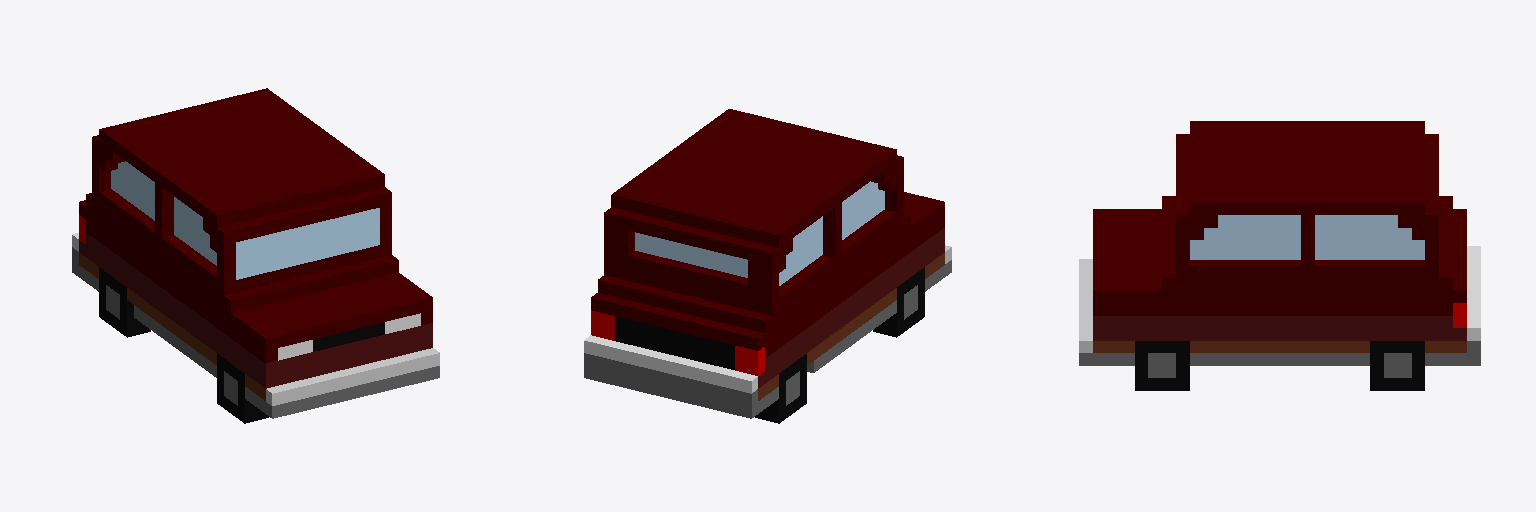
3 renders of one model, left to right at view 1: azimuth 30°, elevation 25°; view 2: azimuth 150°, elevation 25°; view 3: azimuth 270°, elevation 25°, orthographic.
Parts seen in each view (by area): view 1: Untitled.001; view 2: Untitled.001; view 3: Untitled.001.
Part boxes in pixels (left/top/right/bottom): Untitled.001: left=72, top=88, right=439, bottom=423; Untitled.001: left=584, top=109, right=951, bottom=423; Untitled.001: left=1079, top=121, right=1480, bottom=390.
Size of the model in its own units: 1.4 by 1.5 by 2.9.
1 materials, 1 textured.